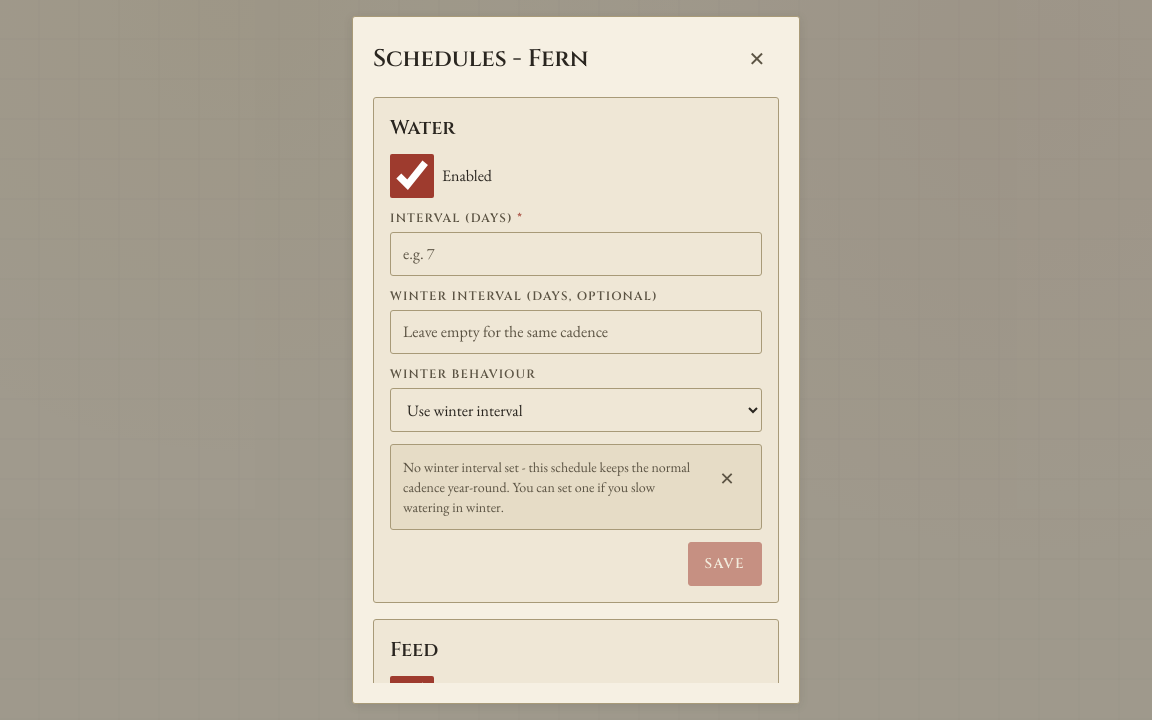
Test: CareScheduleModal no-winter-interval hint › shows a non-blocking hint when dormancy is winter_interval and the winter interval is empty
Type "7" into the number field labelled "Interval (days) *" at (576, 254), box [390,232,762,276]
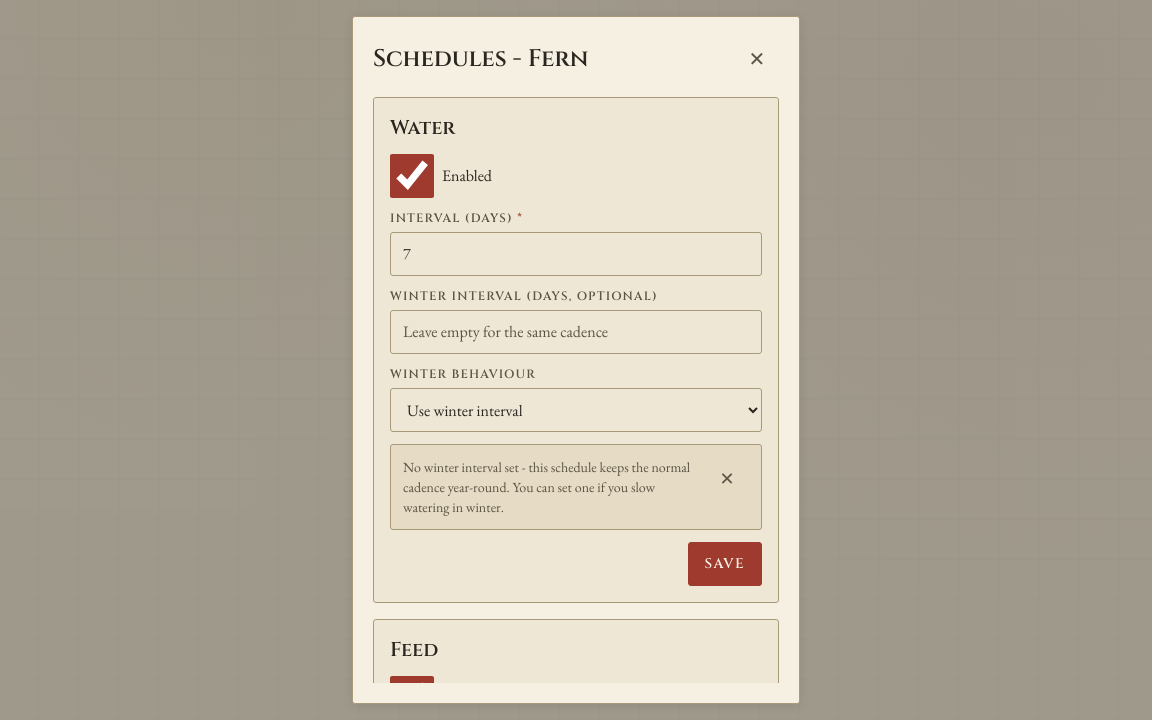
Now the button with aria-label "save the water schedule" is enabled, box [688,542,762,586]
